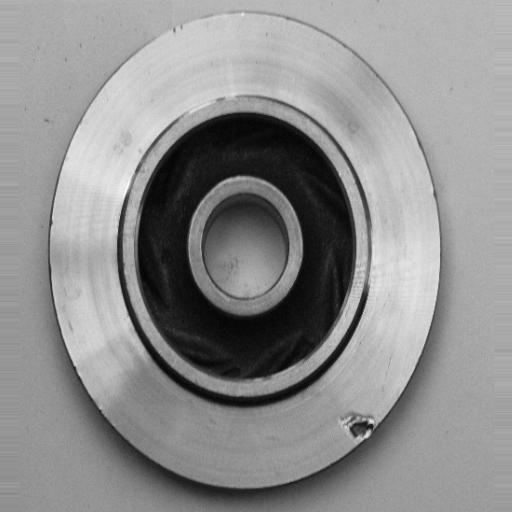crack: (330, 399, 391, 455)
scratch: (177, 88, 253, 124)
unpolished_casting: (44, 11, 442, 494)
